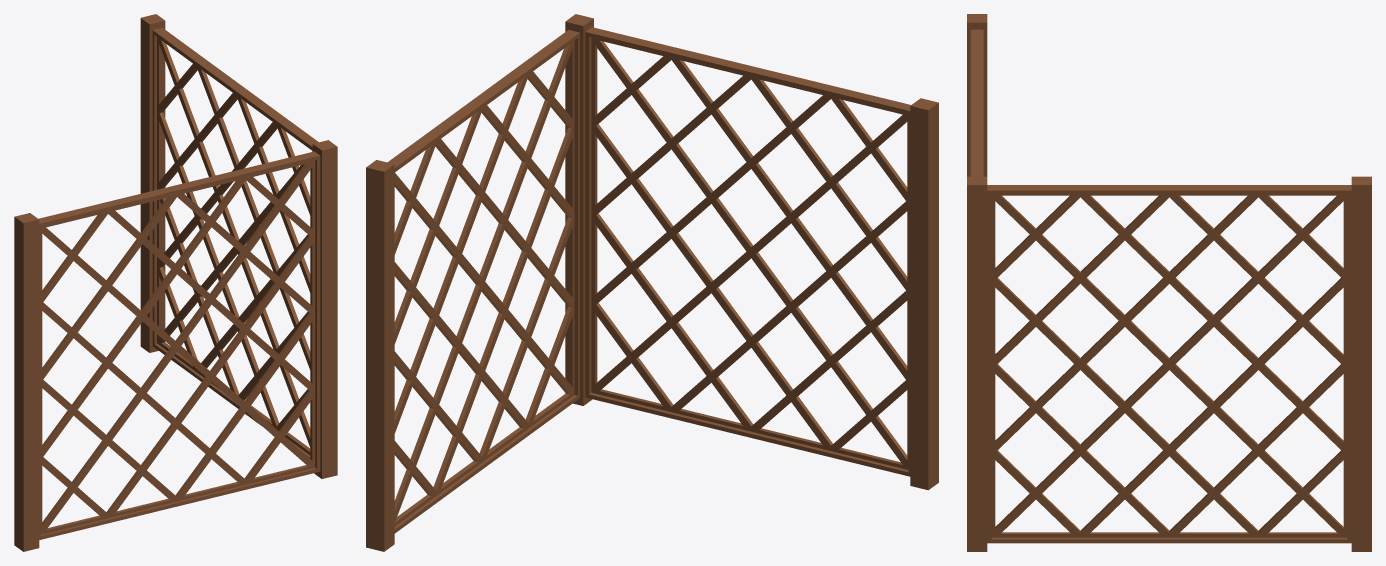
The model's file is SM_fence_06_B.glb.
The picture shows the model from 3 angles, left to right: view 1: azimuth 30°, elevation 25°; view 2: azimuth 150°, elevation 25°; view 3: azimuth 270°, elevation 25°; orthographic projection. The views are drawn at different scales.
Parts seen in each view (by area): view 1: SM_fence_06_B; view 2: SM_fence_06_B; view 3: SM_fence_06_B.
Part boxes in pixels (left/top/right/bottom): SM_fence_06_B: left=14, top=14, right=337, bottom=551; SM_fence_06_B: left=366, top=14, right=938, bottom=551; SM_fence_06_B: left=967, top=14, right=1371, bottom=551.
Size of the model in its own units: 2 by 2 by 2.
Materials: 1 (1 with a texture image).
